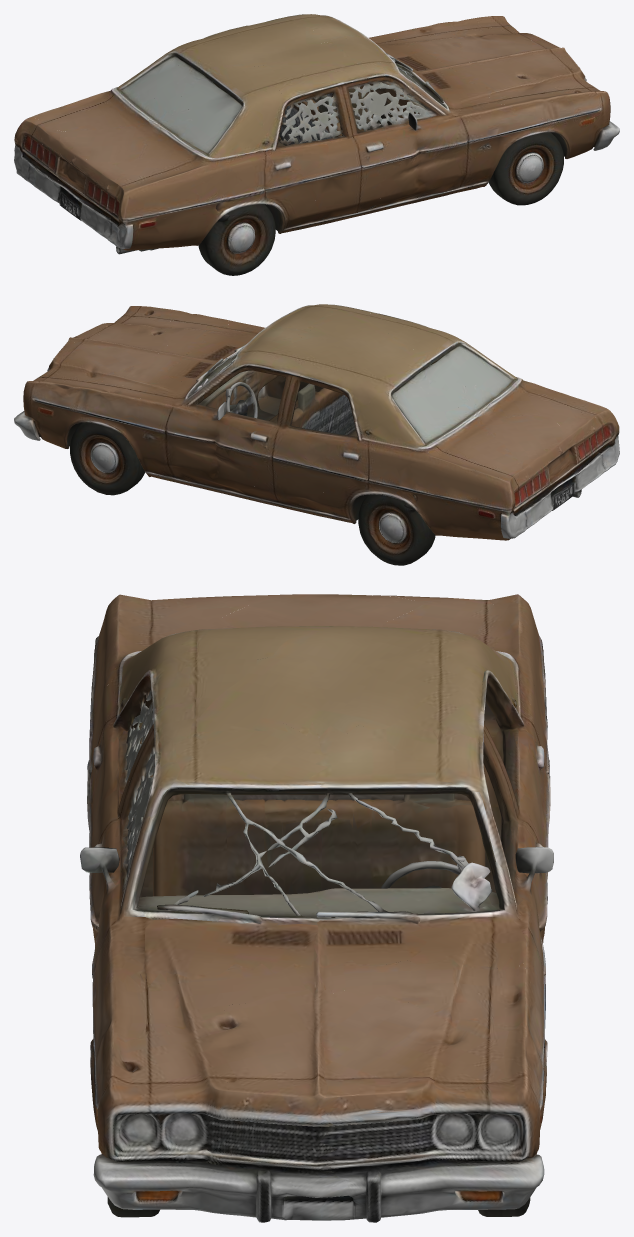
File: sedan.glb
3 views of the same model, one above another, from view 1: azimuth 30°, elevation 25°; view 2: azimuth 150°, elevation 25°; view 3: azimuth 270°, elevation 25° (orthographic). The views are drawn at different scales.
Visible parts, largest first — view 1: tripo_node_ee85eadb-bc37-4a7e-9b7a-8615b593e7e5; view 2: tripo_node_ee85eadb-bc37-4a7e-9b7a-8615b593e7e5; view 3: tripo_node_ee85eadb-bc37-4a7e-9b7a-8615b593e7e5.
Part boxes in pixels (x1,y1,x2,y2): tripo_node_ee85eadb-bc37-4a7e-9b7a-8615b593e7e5: (14, 14, 619, 275); tripo_node_ee85eadb-bc37-4a7e-9b7a-8615b593e7e5: (14, 304, 619, 565); tripo_node_ee85eadb-bc37-4a7e-9b7a-8615b593e7e5: (80, 594, 553, 1222).
Bounding box in the file's own units: 1 × 0.3138 × 0.4029.
Materials: 1 (1 with a texture image).
